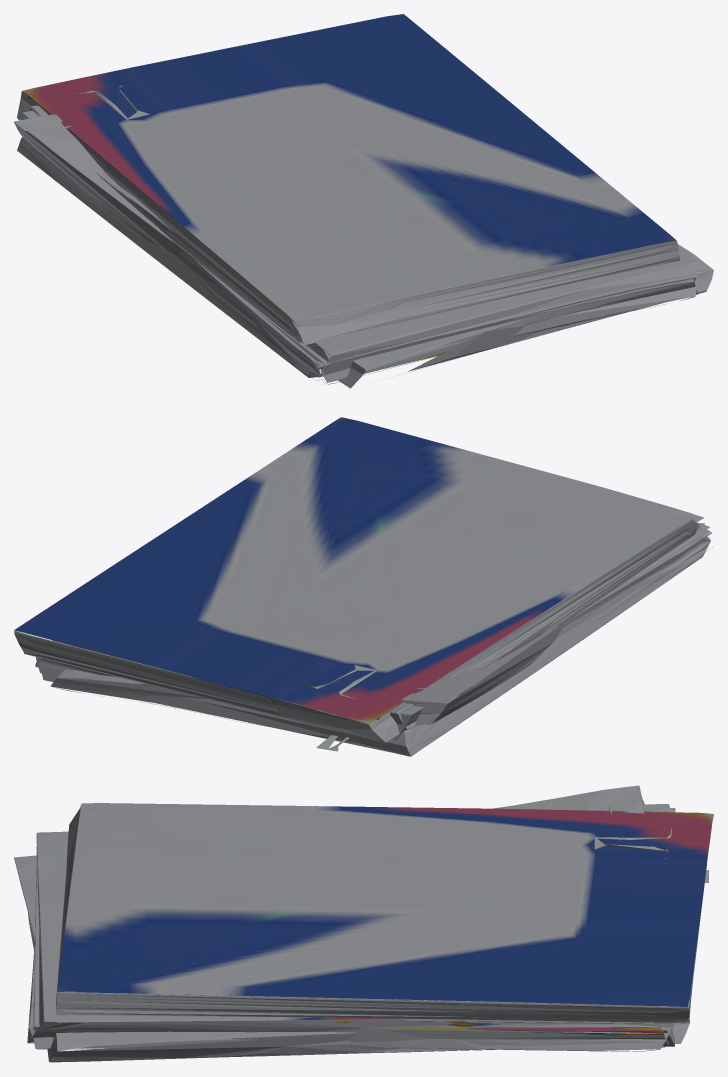
File: paper_stack_a04.glb
The picture shows the model from 3 angles, top to bottom: view 1: azimuth 30°, elevation 25°; view 2: azimuth 150°, elevation 25°; view 3: azimuth 270°, elevation 25°; orthographic projection. The views are drawn at different scales.
Visible parts, largest first — view 1: geometry_0; view 2: geometry_0; view 3: geometry_0.
Part boxes in pixels (x1=…): geometry_0: x1=14, y1=14, x2=713, y2=388; geometry_0: x1=14, y1=417, x2=712, y2=756; geometry_0: x1=14, y1=785, x2=713, y2=1062.
Size of the model in its own units: 0.3064 by 0.0448 by 0.42.
Materials: 1 (1 with a texture image).
